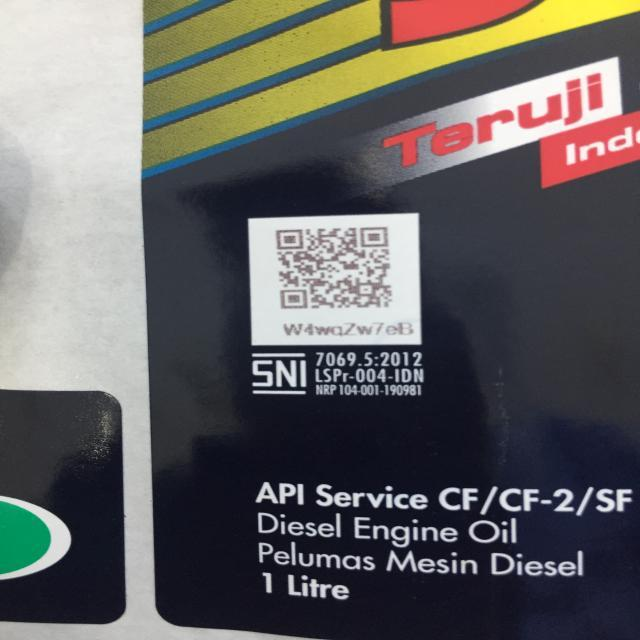qr-code: (268, 222, 402, 314)
